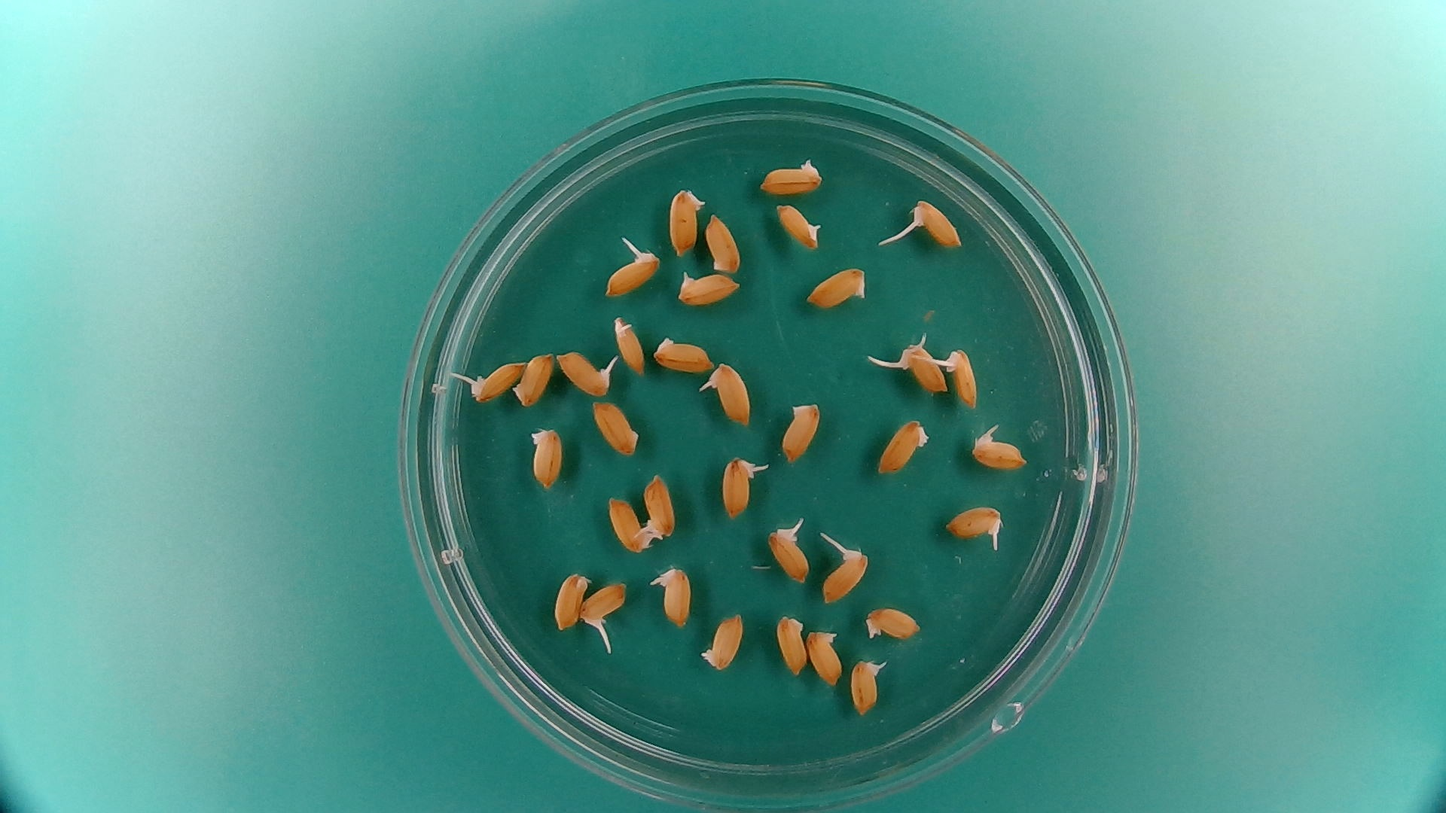no: (874, 410, 937, 478), (695, 609, 748, 675), (778, 396, 825, 467), (802, 263, 871, 311), (664, 182, 707, 258), (604, 492, 655, 554), (755, 154, 828, 196), (702, 208, 745, 276), (589, 400, 639, 458), (525, 422, 566, 492), (511, 348, 556, 410), (773, 199, 824, 252), (651, 333, 716, 373), (550, 568, 590, 631), (862, 603, 925, 642), (773, 612, 810, 678), (804, 626, 844, 687)
yes: (648, 560, 694, 630), (818, 546, 868, 607), (674, 267, 744, 309), (711, 360, 755, 425), (602, 247, 655, 300), (968, 428, 1030, 473), (913, 199, 965, 252), (765, 528, 813, 585), (902, 339, 950, 395), (719, 455, 759, 522), (558, 352, 616, 398), (849, 654, 889, 719), (468, 358, 527, 402), (942, 346, 982, 410), (947, 500, 1008, 541), (578, 578, 630, 626), (642, 474, 678, 541), (611, 312, 648, 376)
